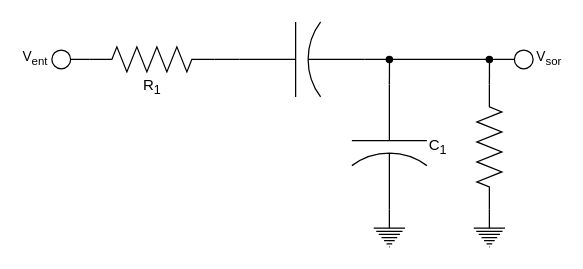
This 583x269 diagram has some shape labels left out. The shapes that lost their labels are listed below. From the top down, each one's box as (x1, y1, x2, y2) in pixels, then its label:
(238, 21, 364, 97): C 2
(476, 83, 502, 209): R 2
